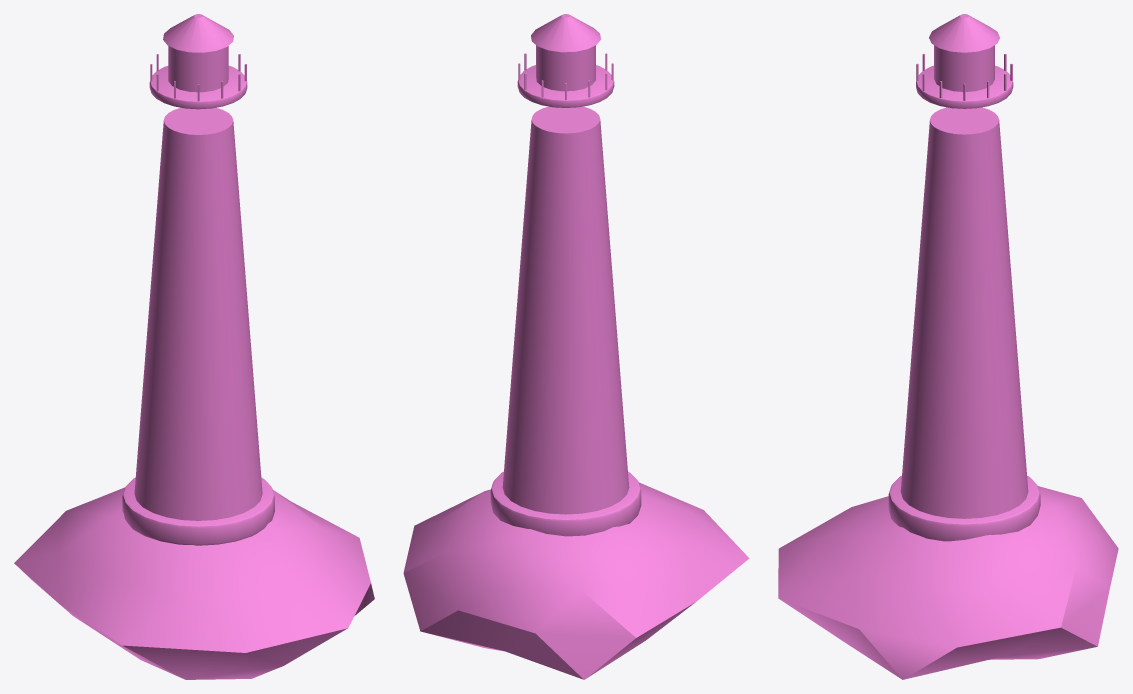
Rendered from Docks_Lighthouse.fbx.
The picture shows the model from 3 angles, left to right: view 1: azimuth 30°, elevation 25°; view 2: azimuth 150°, elevation 25°; view 3: azimuth 270°, elevation 25°; orthographic projection.
Visible parts, largest first — view 1: Lighthouse; view 2: Lighthouse; view 3: Lighthouse.
Part boxes in pixels (<box>): Lighthouse: <box>14,14,374,679</box>; Lighthouse: <box>403,14,749,679</box>; Lighthouse: <box>778,14,1118,679</box>.
Size of the model in its own units: 22.17 by 45.41 by 22.39.
1 material, 1 textured.
